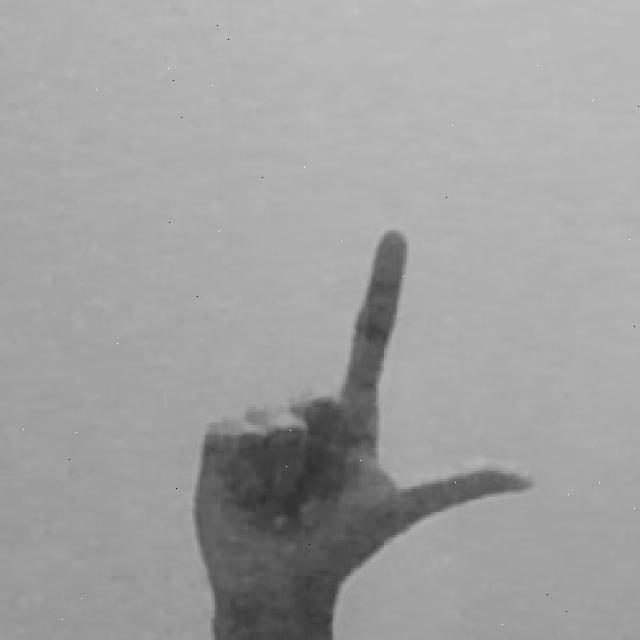L: (182, 220, 545, 640)
